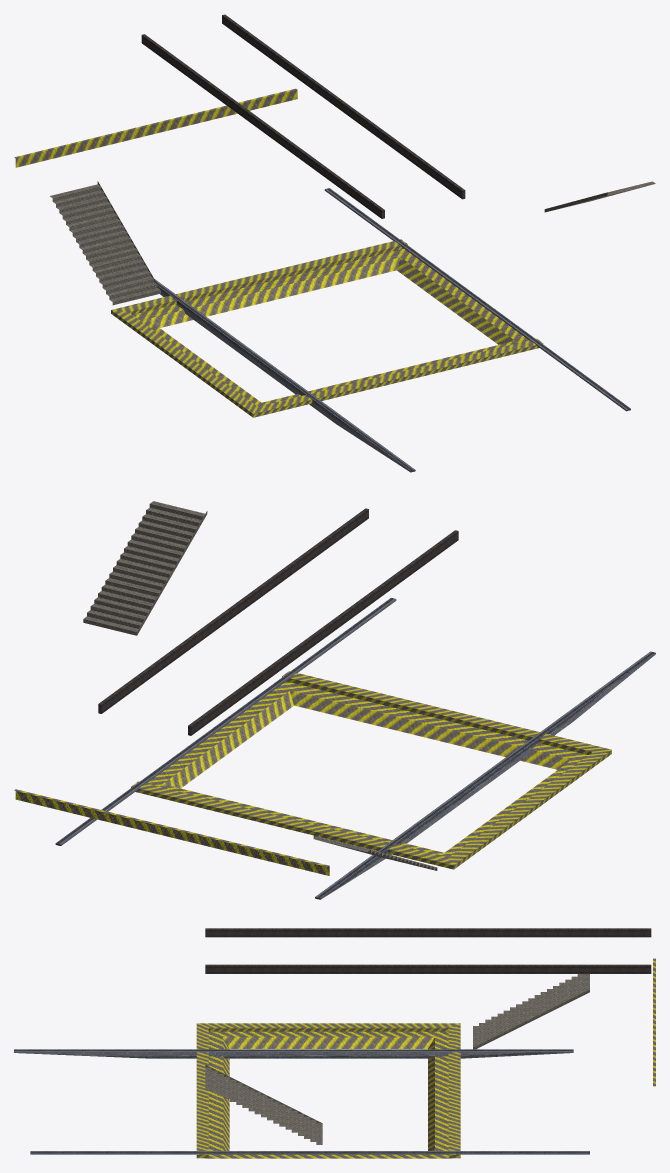
The model's file is a51_stormech.obj.
3 renders of one model, top to bottom at view 1: azimuth 30°, elevation 25°; view 2: azimuth 150°, elevation 25°; view 3: azimuth 270°, elevation 25°, orthographic. The views are drawn at different scales.
Visible parts, largest first — view 1: a51_stormech; view 2: a51_stormech; view 3: a51_stormech.
Boxes of the visible parts, left/top/right/bottom form: a51_stormech: left=14, top=14, right=655, bottom=472; a51_stormech: left=14, top=501, right=655, bottom=899; a51_stormech: left=14, top=928, right=655, bottom=1158.
Size of the model in its own units: 17.71 by 7.49 by 26.04.
5 materials, 5 textured.
